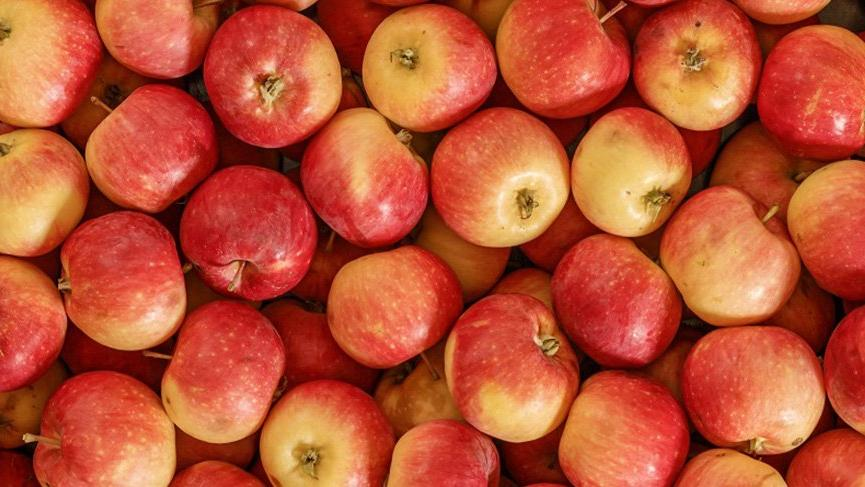apple: (432, 106, 571, 246), (84, 83, 224, 211), (325, 248, 461, 375)
